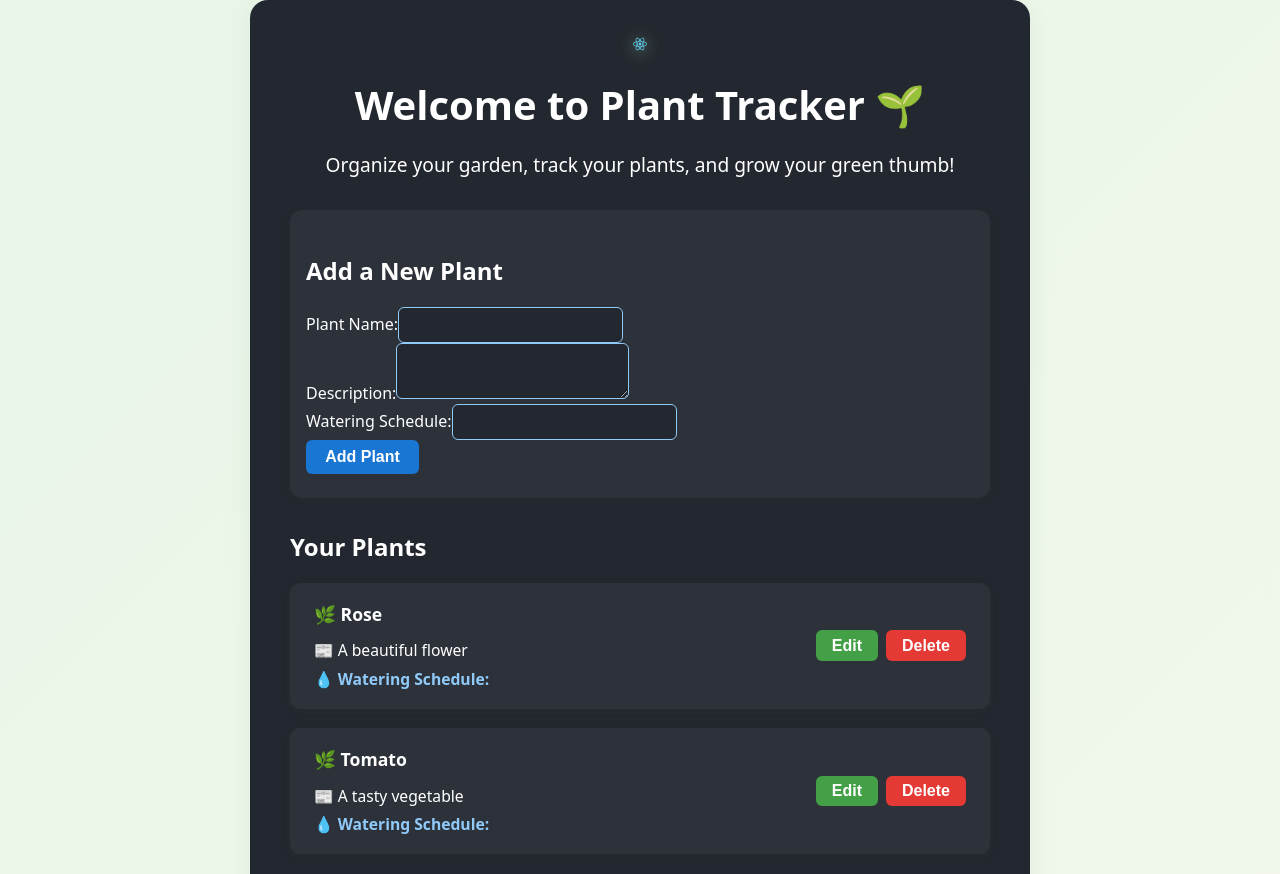
Test case: App Component Tests › updates plant successfully
Expected: the text "Rose" is shown, [340,602,382,626]
Click the button "Edit" in the row of "A beautiful flower".
click(847, 646)  # box [816,630,878,661]
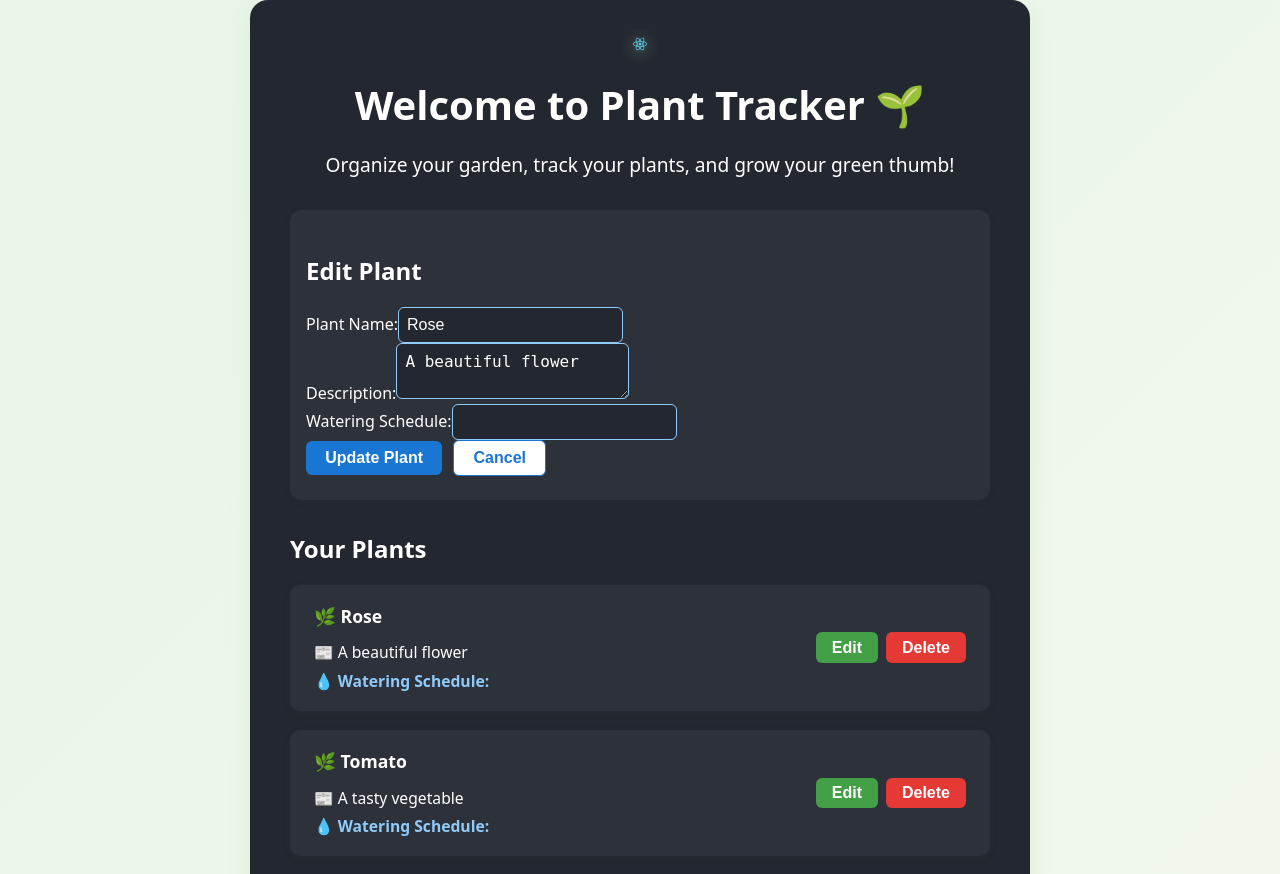
Replace the text in the field showing "Rose" with "Updated Rose" at coordinates (510, 325), box [398,307,623,343]
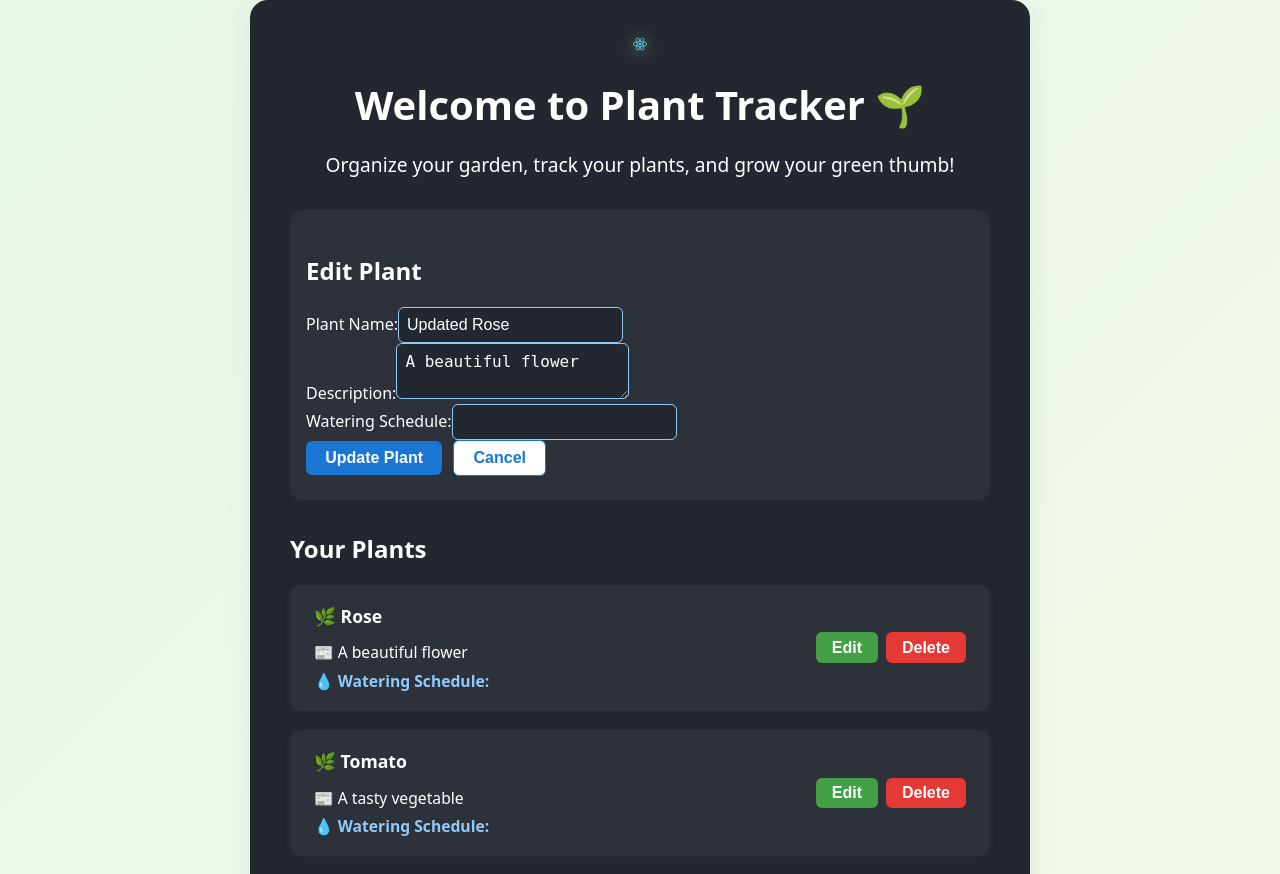
Type "Every day" into the field labelled "Watering Schedule:".
click(564, 422); type("Every day")  # box [452,404,676,440]
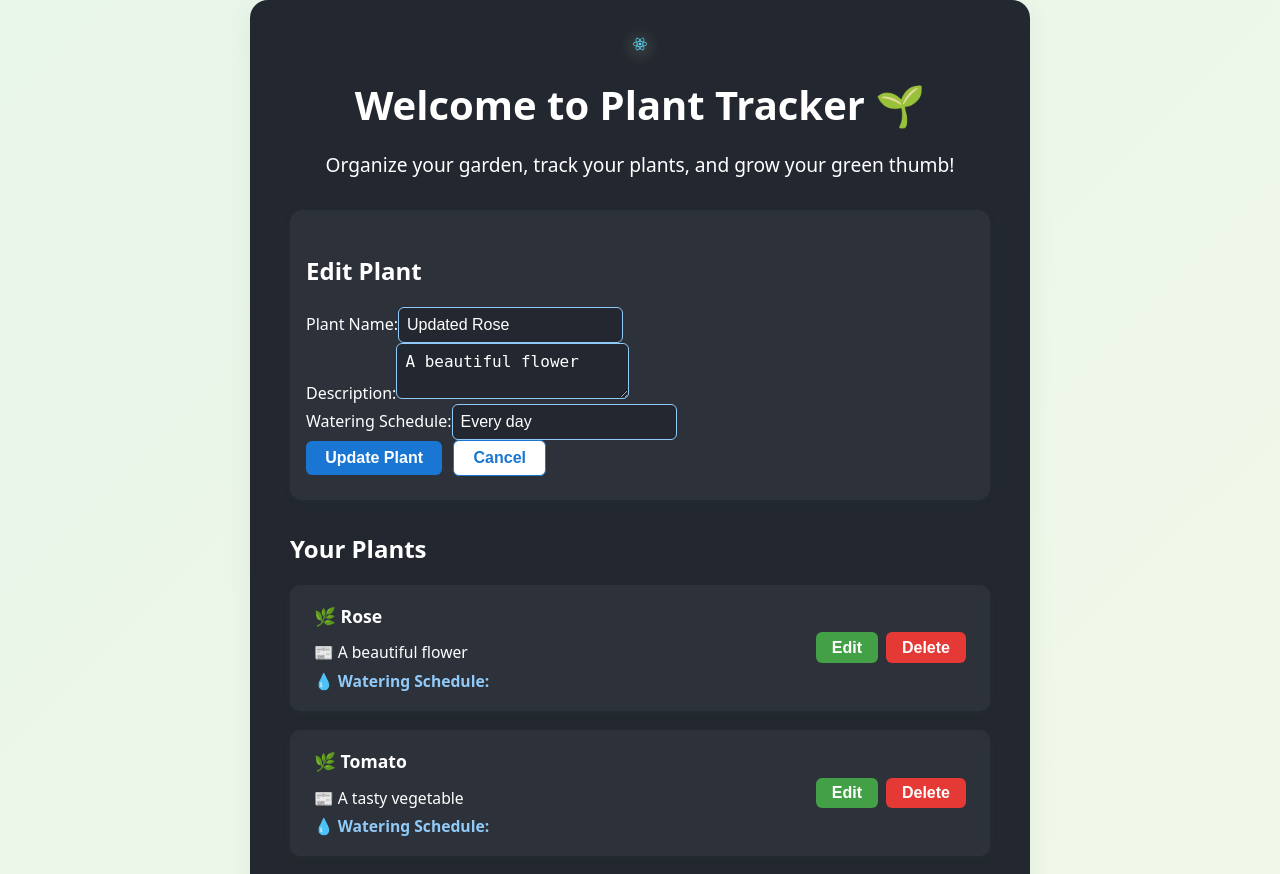
Click the button "Update Plant".
click(374, 458)  # box [306,441,442,475]
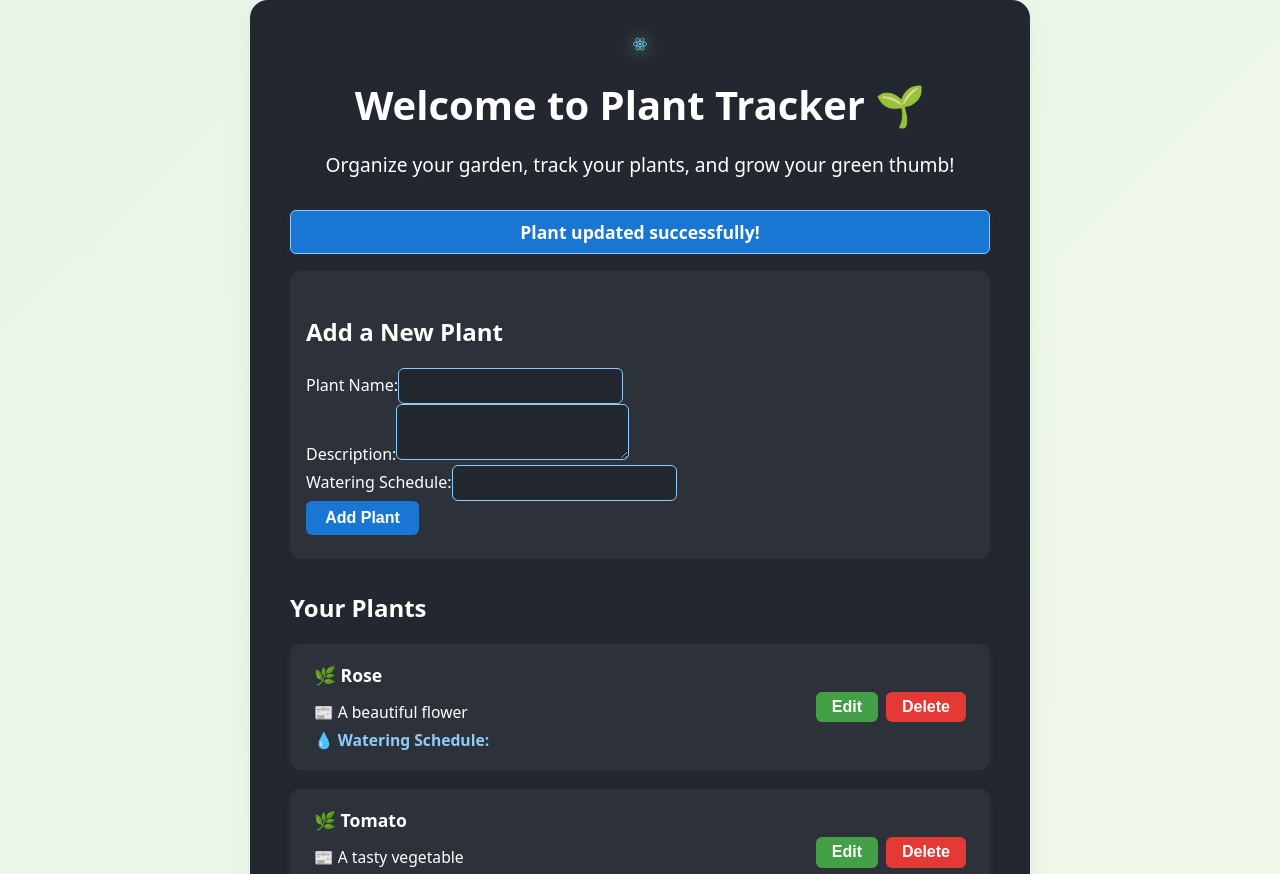
Expected: the text "Plant updated successfully!" is shown, [290,210,990,254]
